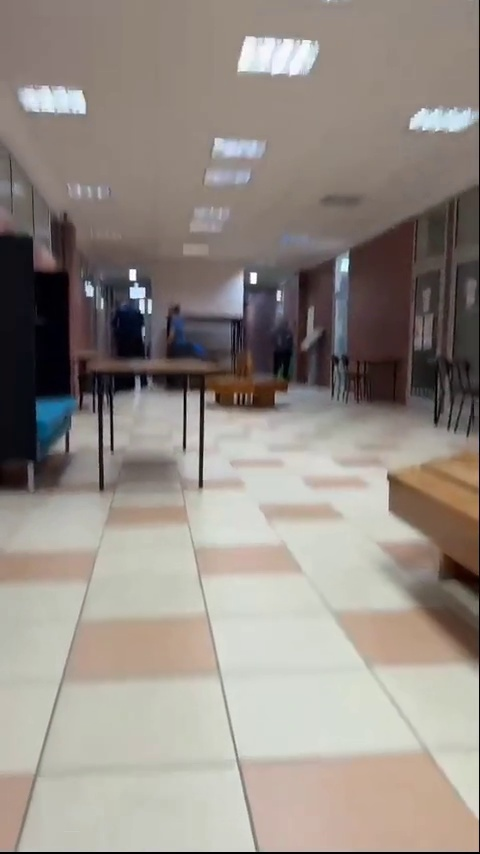no vest: (164, 301, 216, 366), (116, 295, 152, 366), (271, 312, 295, 379)
